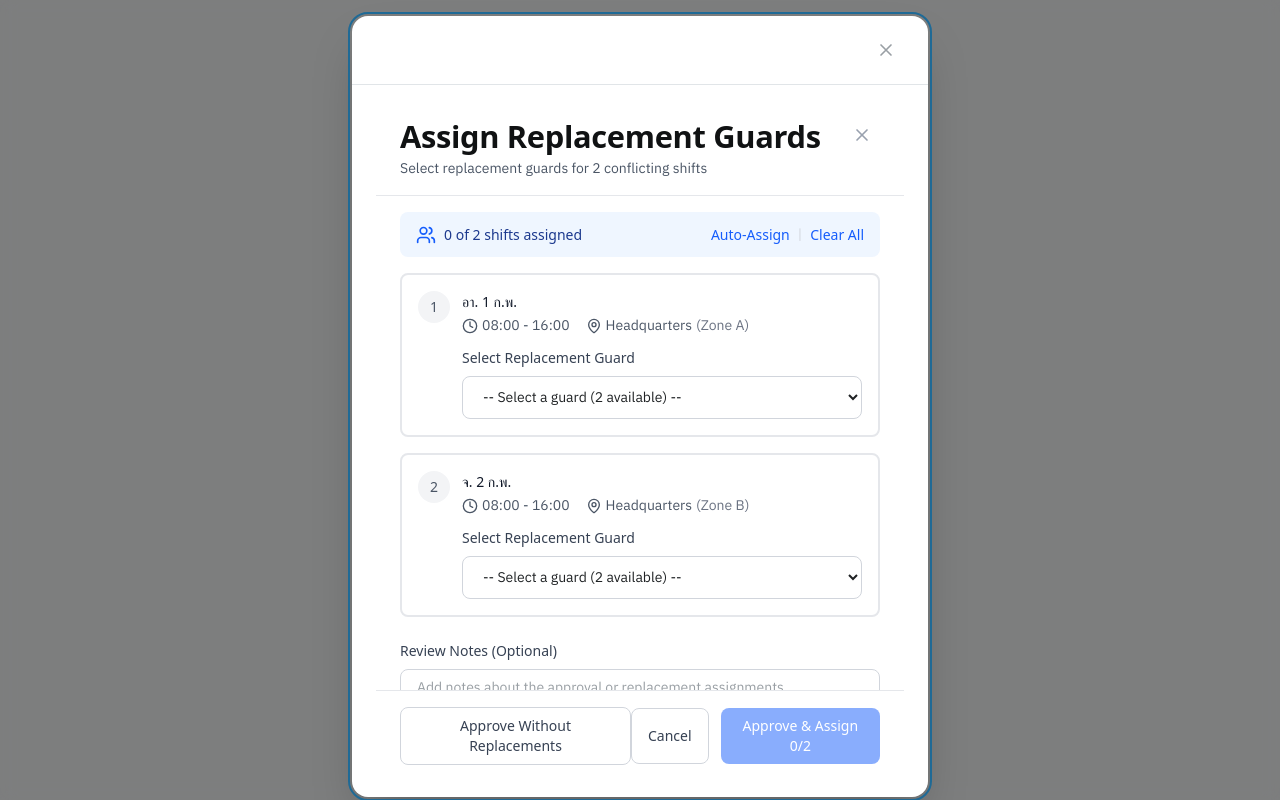
it: Replacement Workflow Components › ReplacementModal › should handle auto-assign functionality
The width and height of the screenshot is (1280, 800).
Click the button "Auto-Assign" at (750, 235), box [711, 224, 790, 246]
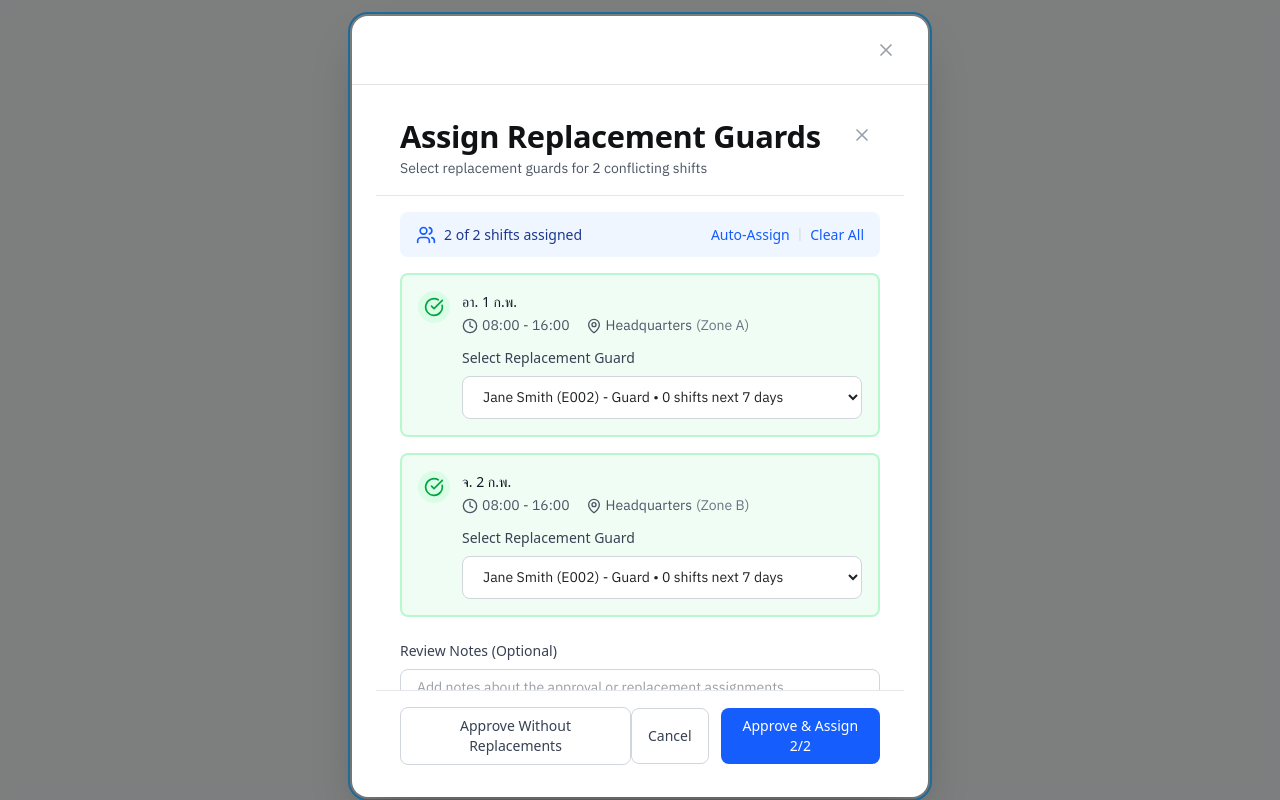
expect the button "Approve & Assign 2/2" is enabled: met, box [721, 708, 880, 764]
